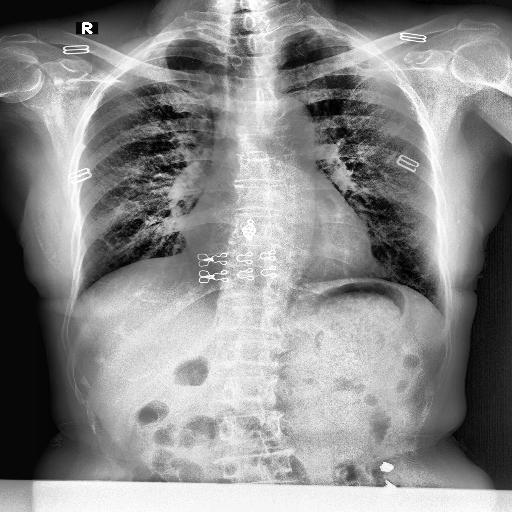0- Aortic enlargement: (255, 96, 315, 154)
11- Pleural thickening: (298, 25, 376, 56), (288, 24, 368, 51)
13- Pulmonary fibrosis: (118, 46, 162, 87)
